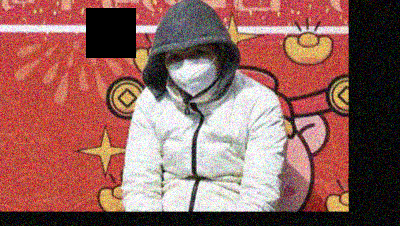with_mask: (164, 44, 223, 99)
